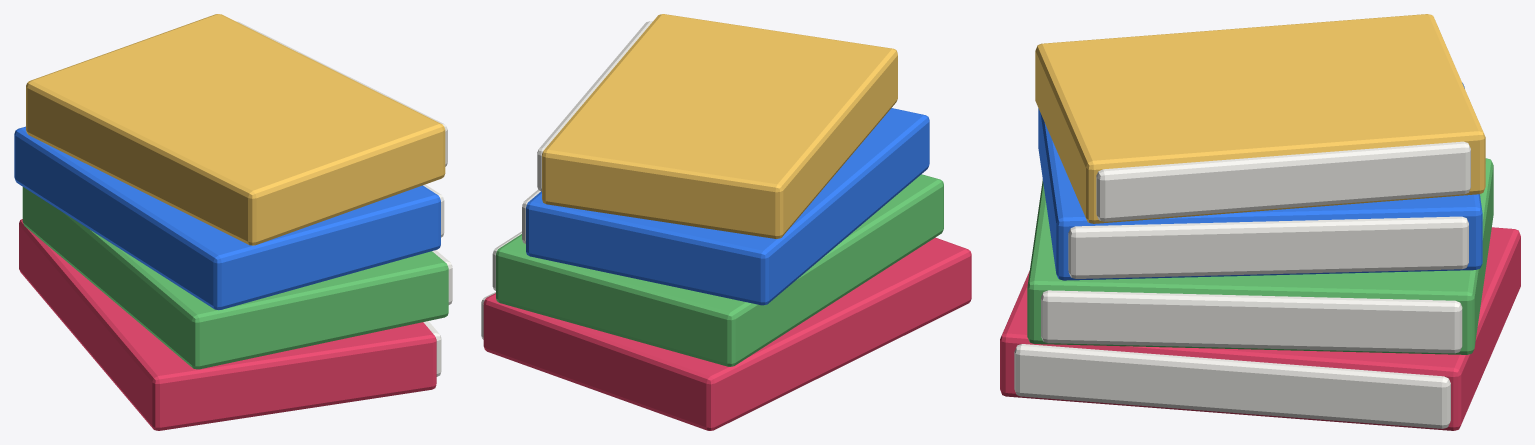
The model's file is book_stack.glb.
3 renders of one model, left to right at view 1: azimuth 30°, elevation 25°; view 2: azimuth 150°, elevation 25°; view 3: azimuth 270°, elevation 25°, orthographic. The views are drawn at different scales.
Visible parts, largest first — view 1: book_stack; view 2: book_stack; view 3: book_stack.
Boxes of the visible parts, bbox=[...] form: book_stack: bbox=[14, 14, 452, 430]; book_stack: bbox=[481, 14, 971, 430]; book_stack: bbox=[1000, 14, 1520, 430].
Size of the model in its own units: 0.2494 by 0.166 by 0.3.
